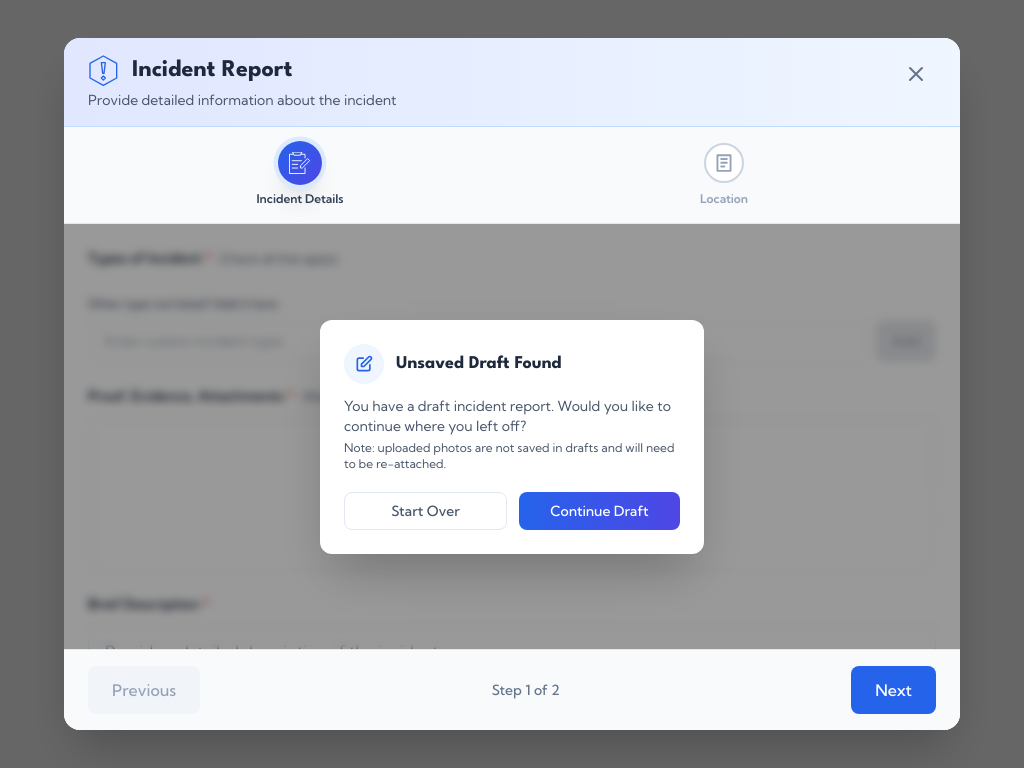
Test: draft restore › clears the draft and hides the prompt when Start Over is clicked
Click the button "Start Over" at (426, 510), box [344,492,507,530]
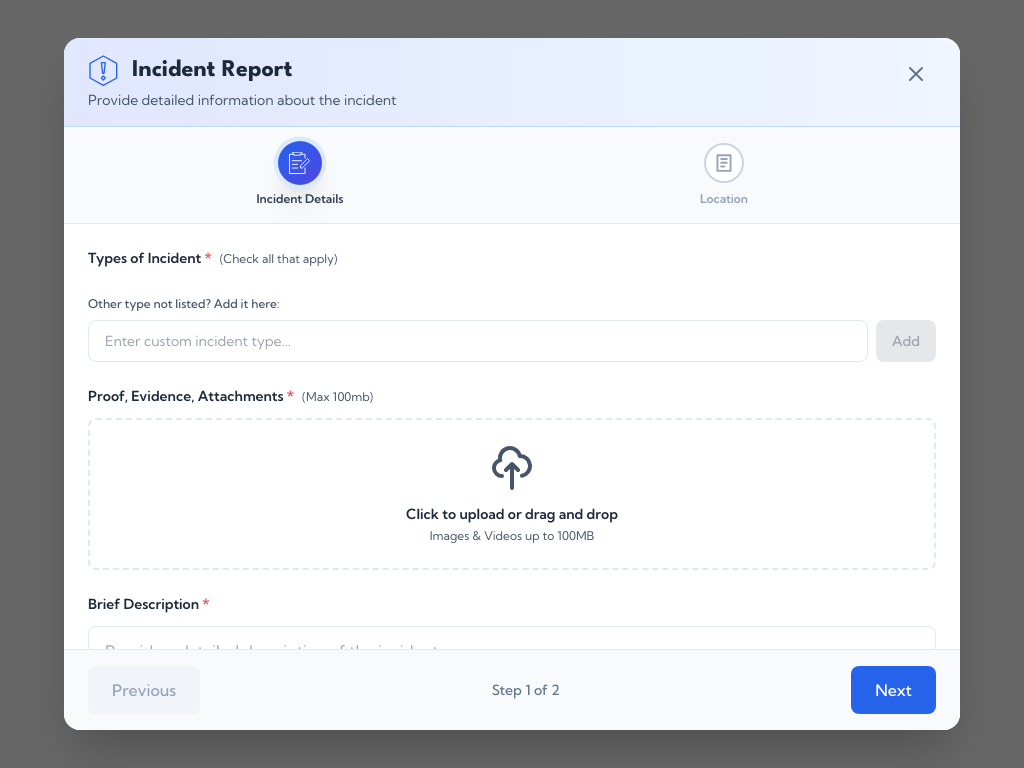
Expected: the heading "Unsaved Draft Found" is gone
